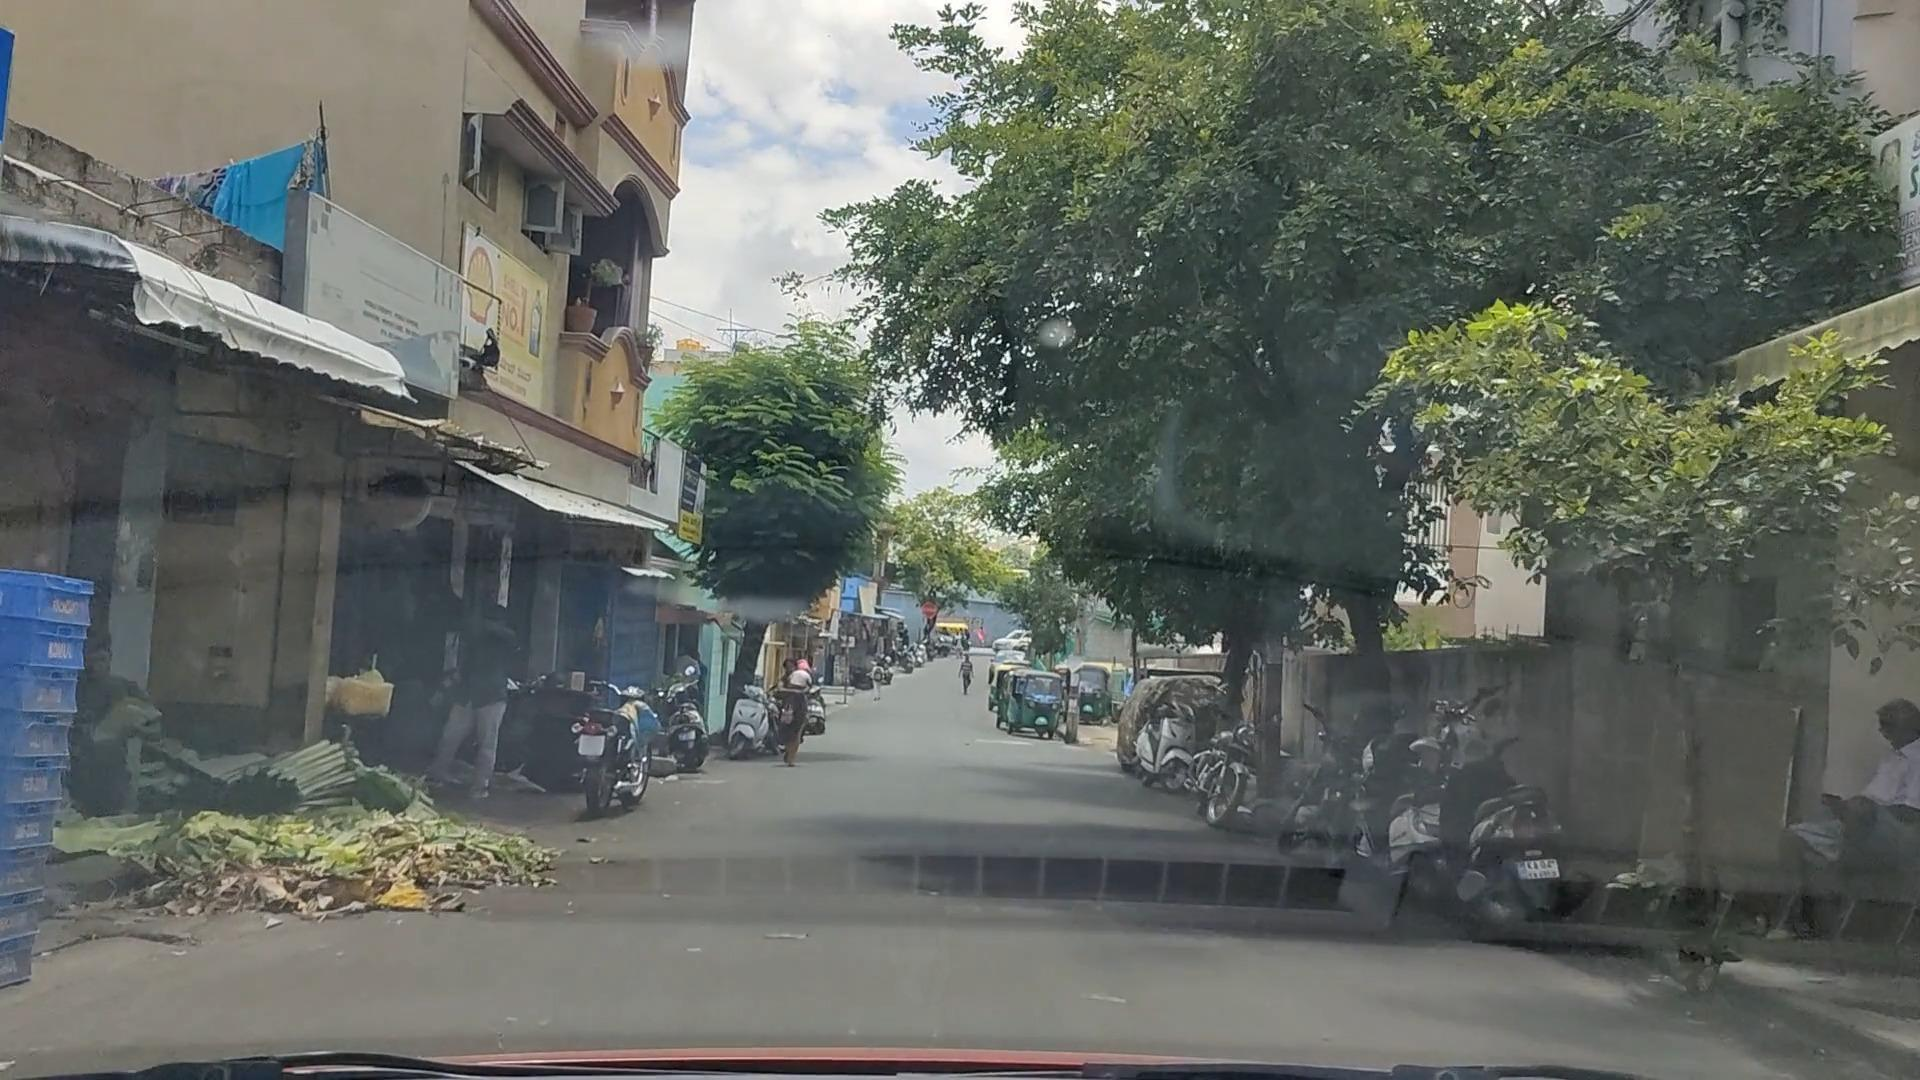LMV: (567, 680, 637, 818), (998, 670, 1064, 741)
